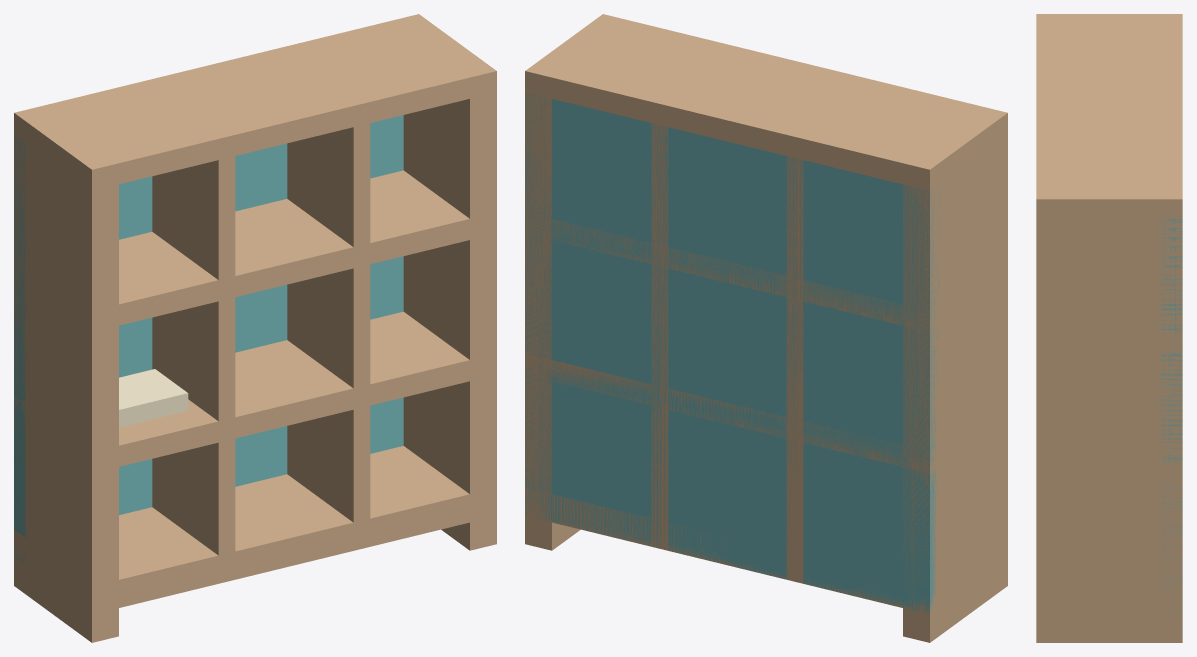
File: meadow-courier-postal-sorting-shelf__41.glb
3 views of the same model, side by side, from view 1: azimuth 30°, elevation 25°; view 2: azimuth 150°, elevation 25°; view 3: azimuth 270°, elevation 25° (orthographic). The views are drawn at different scales.
Visible parts, largest first — view 1: meadow-courier-sorting-shelf; view 2: meadow-courier-sorting-shelf; view 3: meadow-courier-sorting-shelf.
Part boxes in pixels (<box>): meadow-courier-sorting-shelf: <box>14,14,496,642</box>; meadow-courier-sorting-shelf: <box>525,14,1007,642</box>; meadow-courier-sorting-shelf: <box>1036,14,1182,642</box>.
Size of the model in its own units: 1.2 by 1.34 by 0.4.
